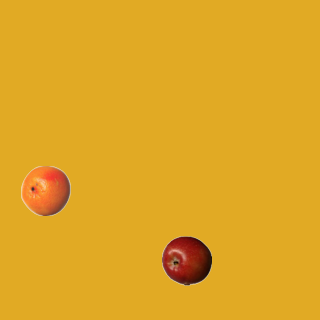Apple Braeburn: (161, 235, 211, 285)
Grapefruit Pink: (20, 165, 70, 215)
